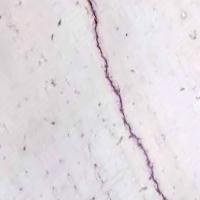crack: (73, 0, 174, 199)
